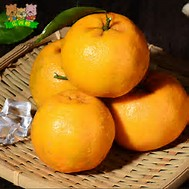orange: (29, 89, 115, 175), (65, 8, 147, 95), (110, 66, 189, 153), (29, 35, 70, 106)
